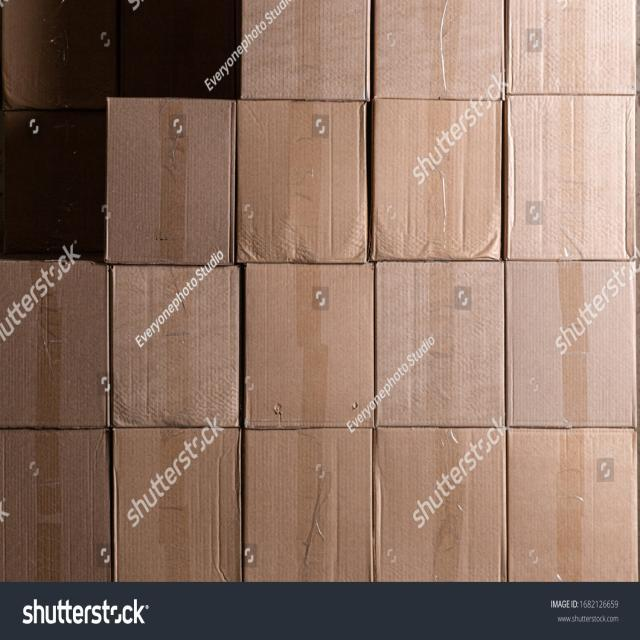BoxFace: (106, 93, 236, 268), (236, 96, 372, 262), (507, 260, 638, 430), (376, 257, 504, 428), (244, 260, 374, 428), (505, 93, 636, 259), (110, 262, 239, 430), (371, 101, 502, 259), (373, 428, 506, 582), (509, 426, 636, 582), (245, 426, 374, 579), (112, 432, 240, 584), (0, 262, 111, 428), (0, 434, 113, 584), (373, 0, 506, 102), (240, 0, 372, 96), (503, 0, 636, 93)
